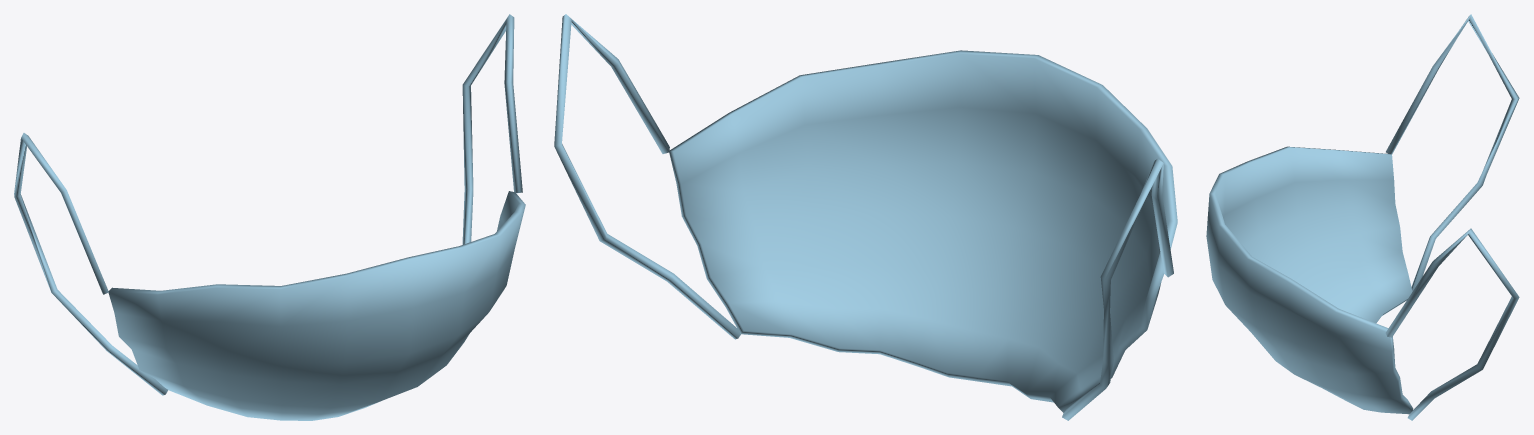
The model's file is acc_mask.glb.
3 views of the same model, side by side, from view 1: azimuth 30°, elevation 25°; view 2: azimuth 150°, elevation 25°; view 3: azimuth 270°, elevation 25° (orthographic). The views are drawn at different scales.
Visible parts, largest first — view 1: acc_mask; view 2: acc_mask; view 3: acc_mask.
Part boxes in pixels (bbox=[...]): acc_mask: bbox=[14, 14, 525, 420]; acc_mask: bbox=[554, 14, 1177, 420]; acc_mask: bbox=[1206, 14, 1519, 420].
Bounding box in the file's own units: 0.3334 × 0.1882 × 0.2029.
